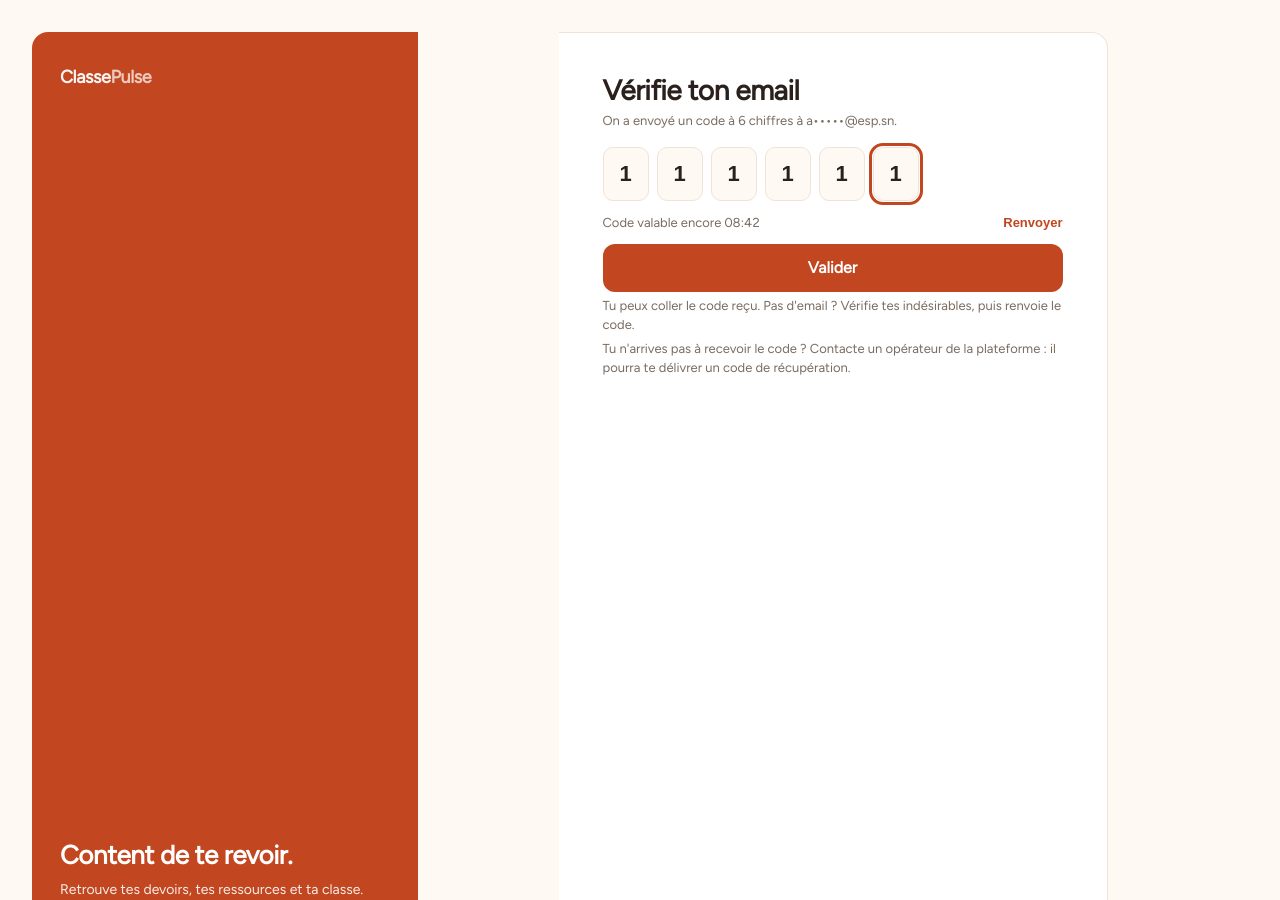
code à 6 chiffres (P2, M8) › un nouveau code vide les cases et redémarre le délai de renvoi
Click the button "Renvoyer" at (1033, 222), box [1003,214,1063,230]
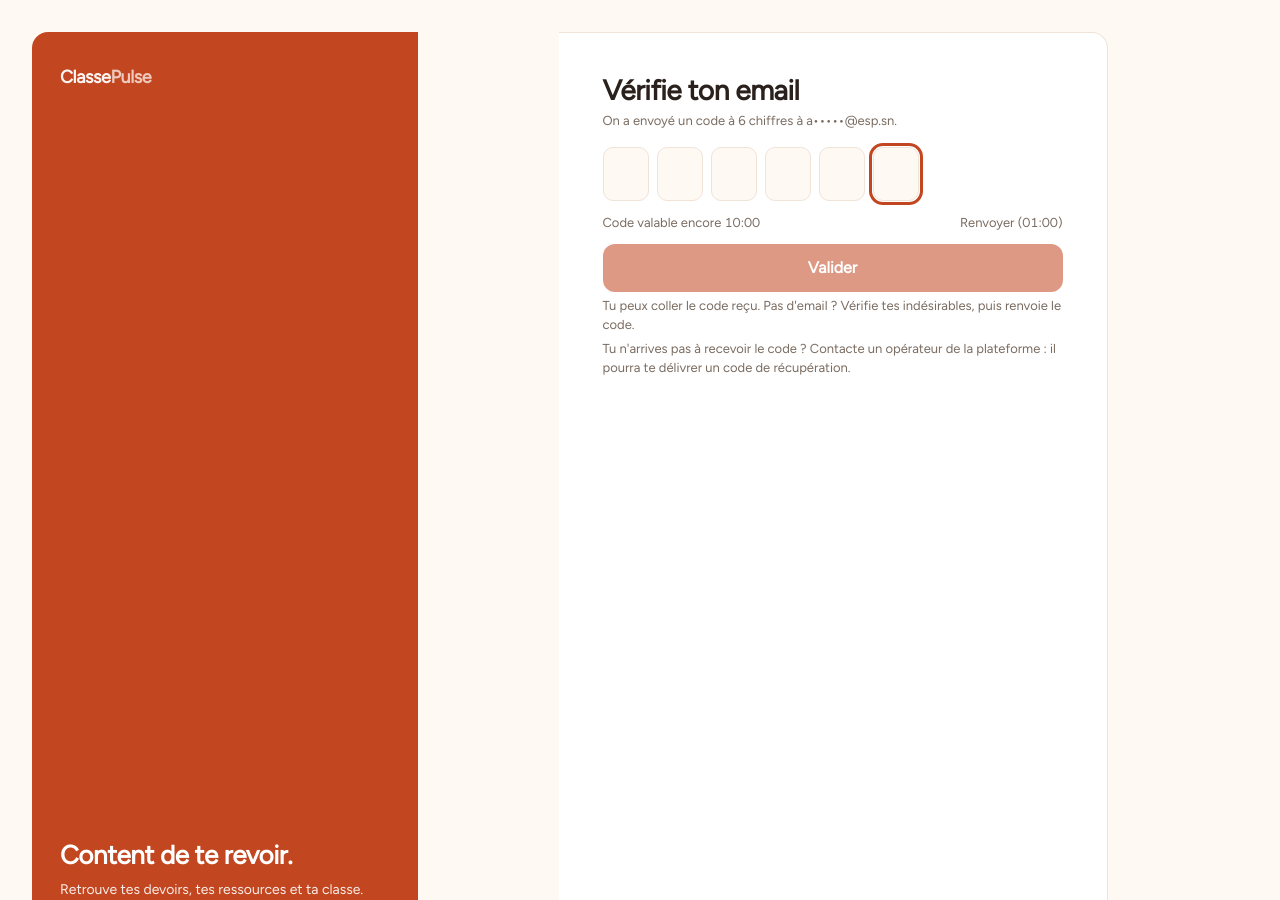
Check: the text "01:00" is shown, box [1022,214,1058,230]
Check: the text "10:00" is shown, box [724,214,760,230]
